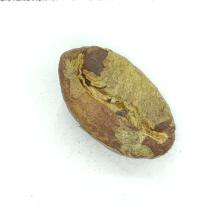NG: (78, 49, 165, 151)
